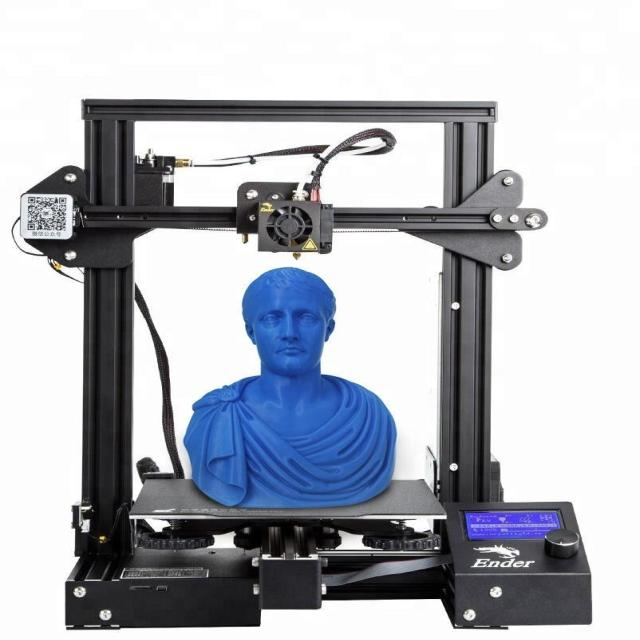Without deffect: (192, 263, 392, 507)
